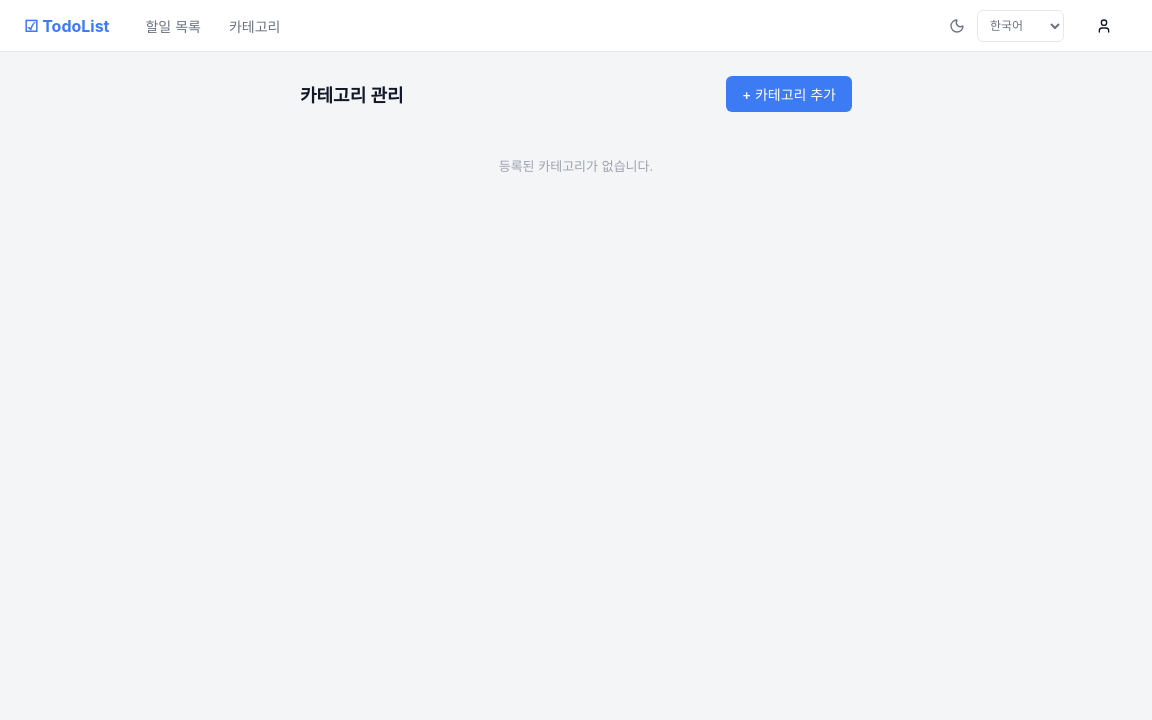
이름 없이 추가 시 유효성 에러
Click the button "+ 카테고리 추가" at (789, 94), box [726,76,852,112]
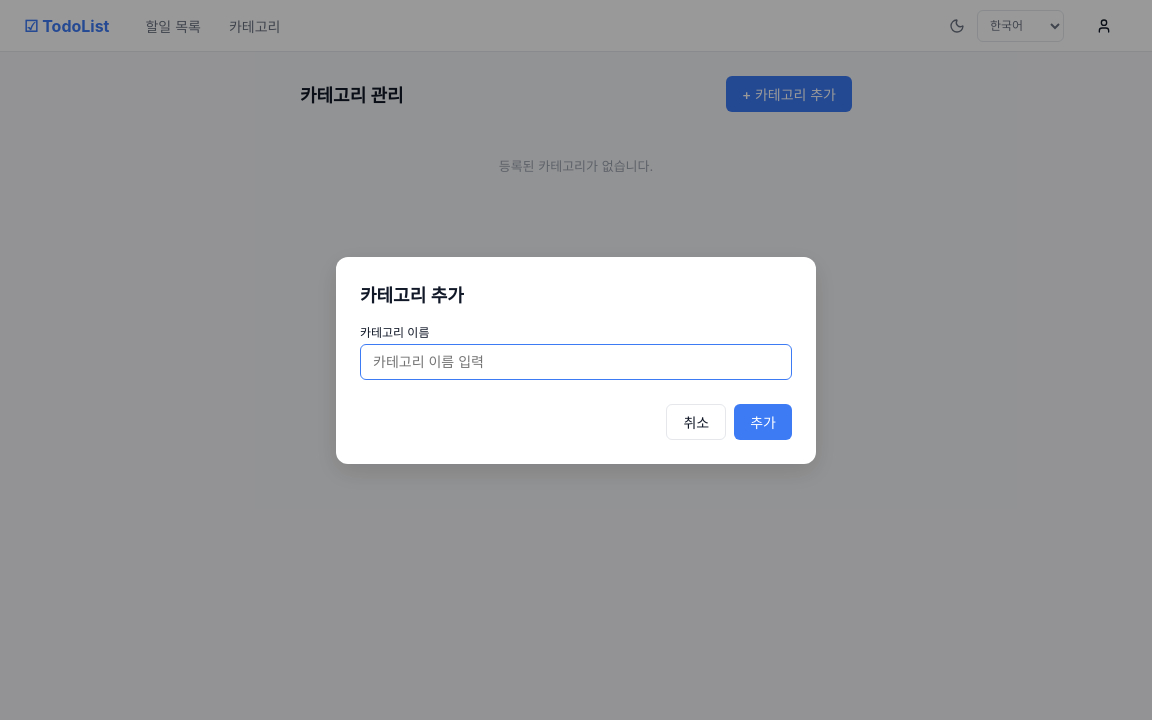
Click the button "추가" at (763, 422), box [734,404,792,440]
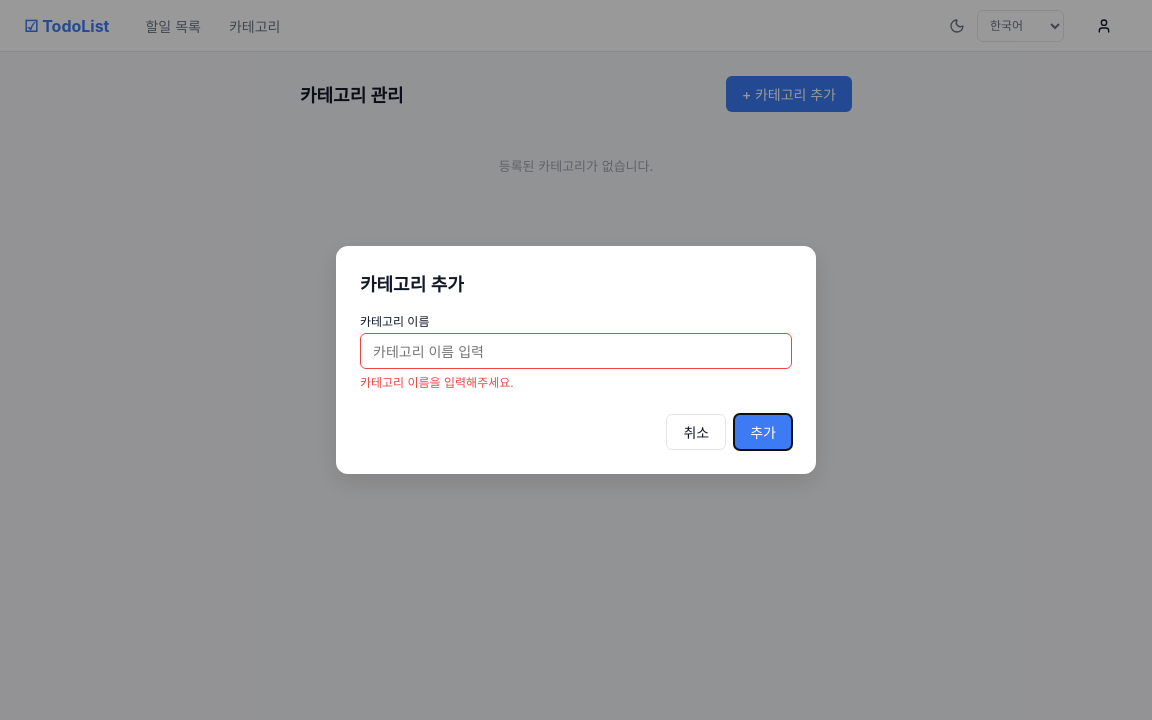
Check: the text "카테고리 이름을 입력해주세요." is shown, box [360,375,514,390]
